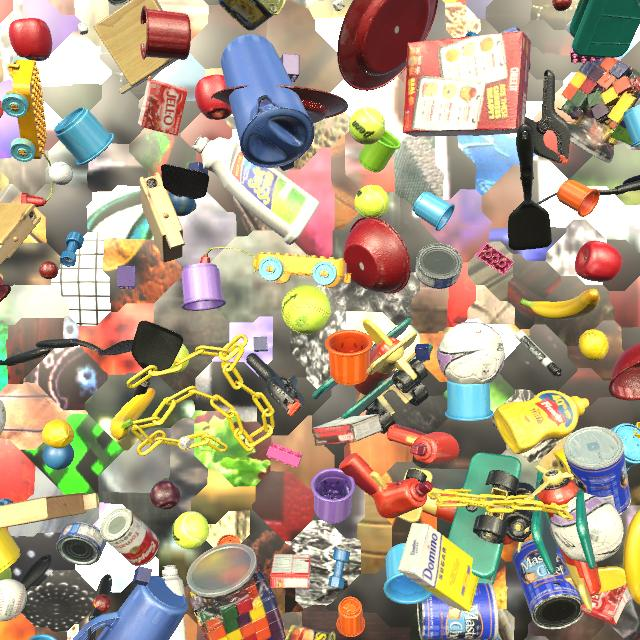ycb_002_master_chef_can: (512, 538, 585, 629), (563, 427, 631, 515), (417, 583, 499, 640)
ycb_003_cracker_box: (403, 31, 531, 137)
ycb_004_sugar_box: (398, 523, 479, 612)
ycb_005_tomato_soup_can: (100, 508, 160, 566)
ycb_006_mustard_bottle: (494, 390, 589, 454)
ycb_007_tuna_fish_can: (415, 243, 463, 289), (56, 522, 106, 566), (499, 26, 530, 70), (108, 0, 130, 5)
ycb_008_pudding_box: (312, 414, 383, 446)
ycb_009_gelatin_box: (138, 78, 188, 136), (580, 584, 631, 625), (270, 554, 311, 588)
ycb_010_potted_meat_can: (216, 0, 286, 31), (285, 624, 336, 640)
ycb_011_banana: (520, 289, 600, 320), (110, 388, 155, 440), (623, 509, 640, 605)
ycb_013_apple: (575, 241, 622, 282), (9, 18, 52, 61), (195, 75, 232, 120)
ycb_014_lemon: (579, 329, 609, 361), (42, 419, 74, 449)
ycb_018_plum: (150, 480, 180, 509)
